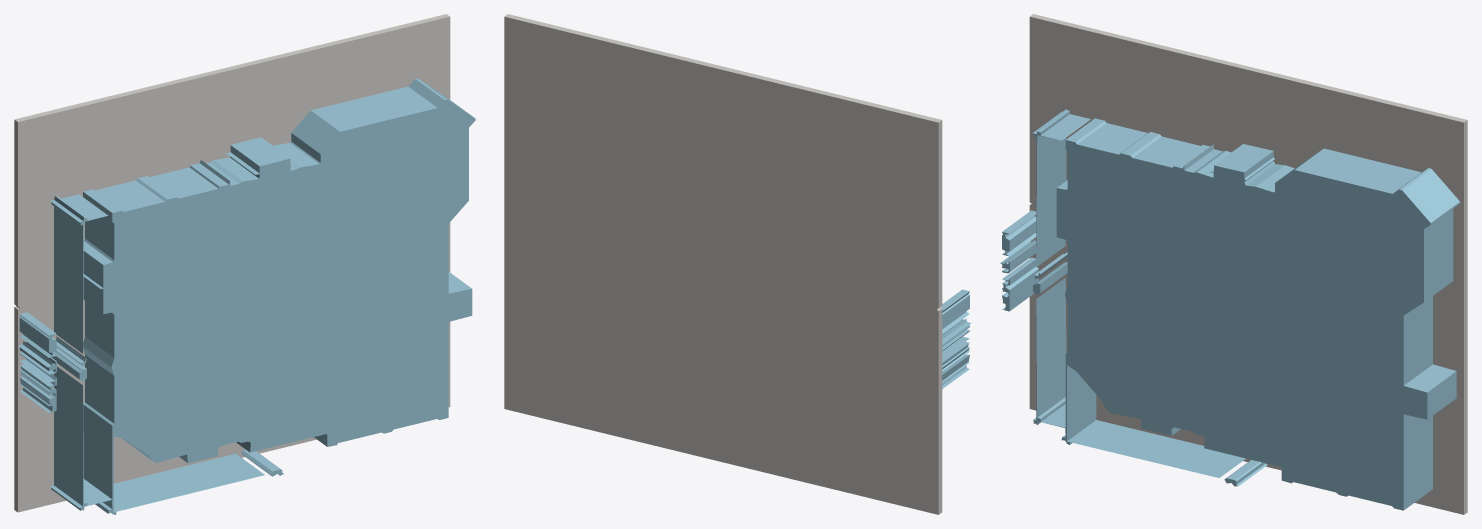
3 views of the same model, side by side, from view 1: azimuth 30°, elevation 25°; view 2: azimuth 150°, elevation 25°; view 3: azimuth 330°, elevation 25° (orthographic).
Visible parts, largest first — view 1: world; view 2: world; view 3: world.
Boxes of the visible parts, x1,y1,x2,y2 form: world: (14, 14, 475, 514); world: (504, 14, 971, 514); world: (1000, 14, 1467, 514).
Bounding box in the file's own units: 10.23 × 8.83 × 1.35.
